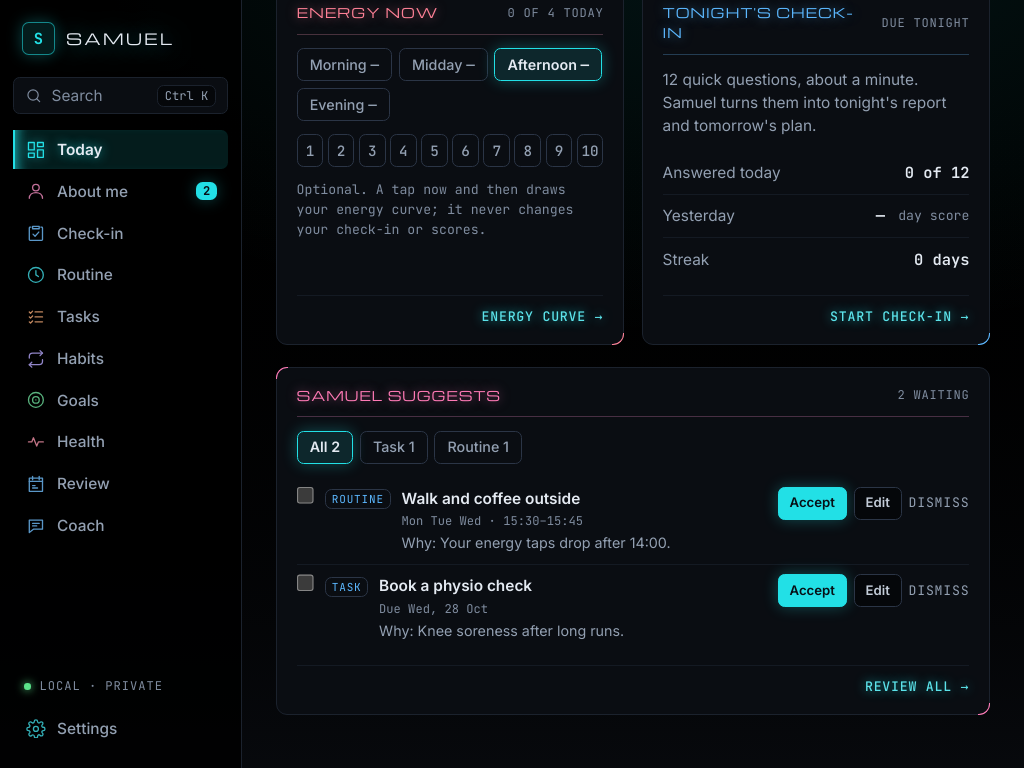
Test case: App › shows waiting suggestions on Home and accepts one
The width and height of the screenshot is (1024, 768).
(page scrolled)
Expected: the text "Walk and coffee outside" is shown, x1=402 y1=489 x2=580 y2=508
Expected: the text "Mon Tue Wed · 15:30–15:45" is shown, x1=402 y1=513 x2=583 y2=529
Click the button "Accept" in the row of "Mon Tue Wed · 15:30–15:45": (812, 503) x1=778 y1=487 x2=847 y2=520
(page scrolled)
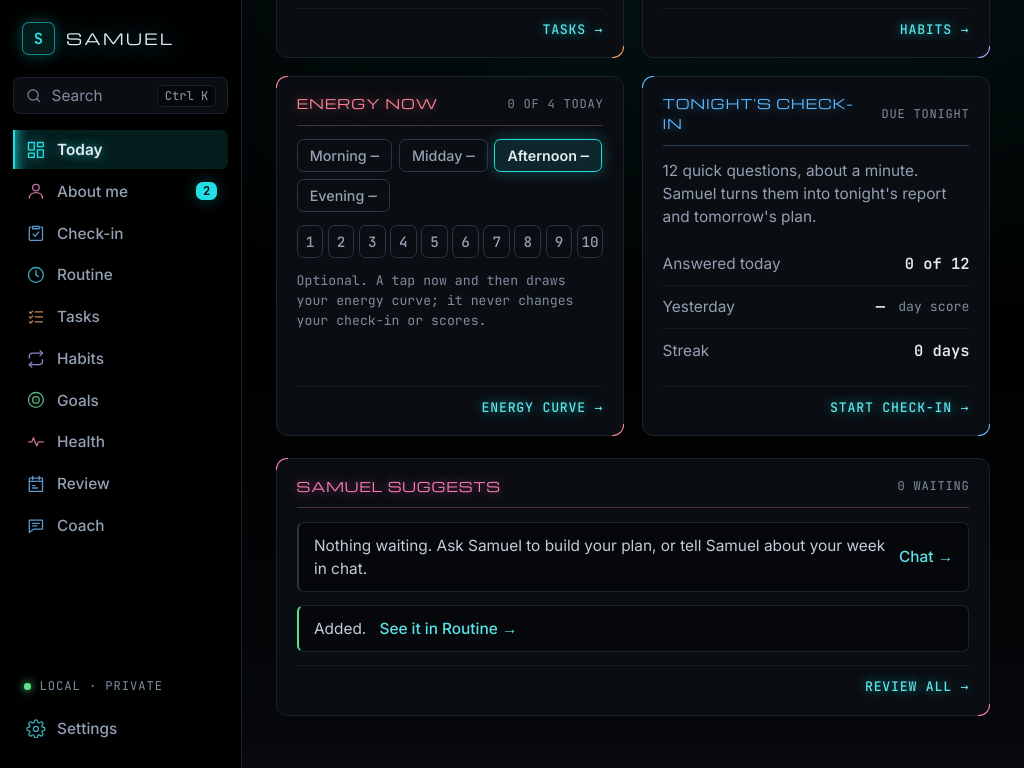
Expected: the link "See it in Routine →" is shown, x1=380 y1=617 x2=517 y2=640
